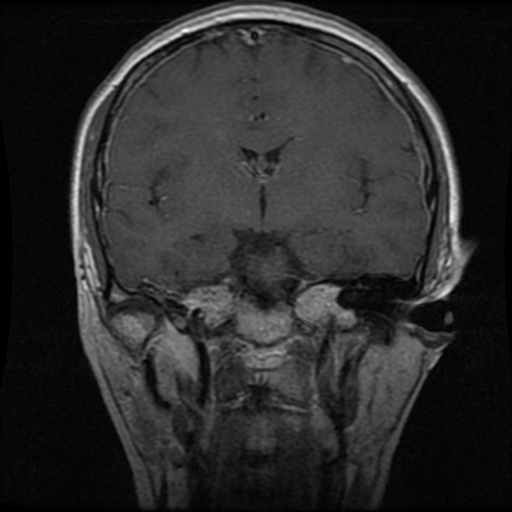pituitary: (244, 250, 292, 292)
